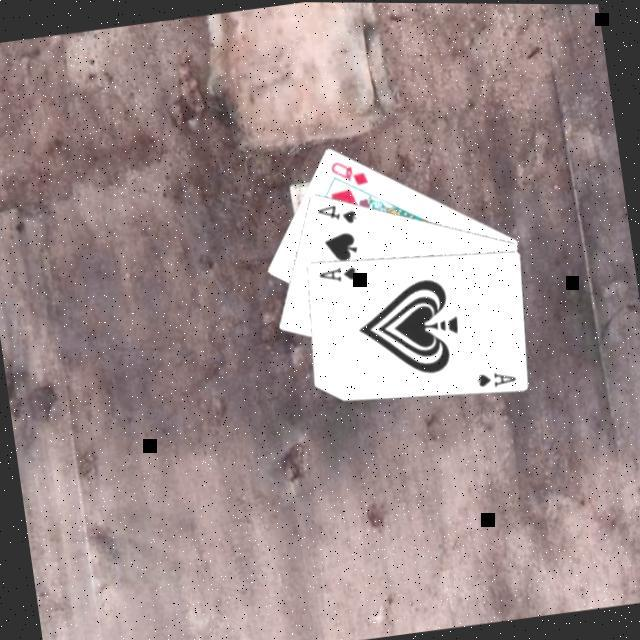4S: (311, 199, 358, 231)
AS: (470, 366, 518, 393), (312, 262, 358, 288)
QD: (324, 154, 370, 192)
